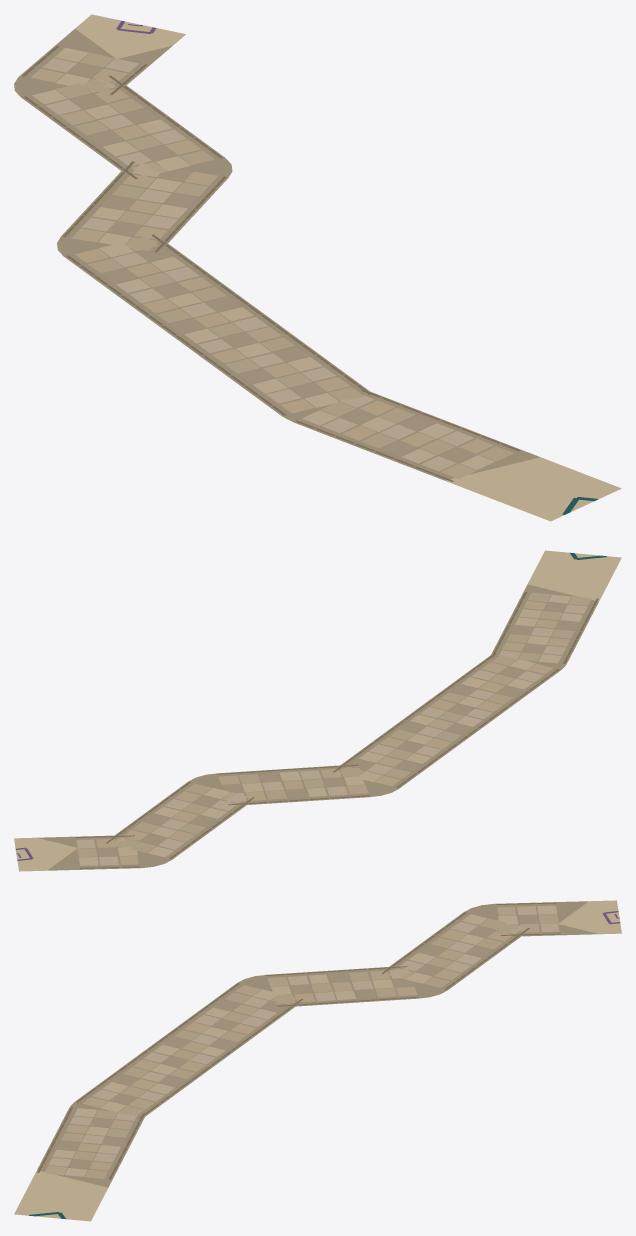
File: route-atk-temple_s-walk.glb
3 renders of one model, top to bottom at view 1: azimuth 30°, elevation 25°; view 2: azimuth 150°, elevation 25°; view 3: azimuth 330°, elevation 25°, orthographic. The views are drawn at different scales.
Parts seen in each view (by area): view 1: Surveyed floor · route-atk-temple_s-walk, Spice Gate to South Temple / #C2AE8D, Spice Gate to South Temple / #C9B798, Spice Gate to South Temple / #BDAD8E, Spice Gate to South Temple / #C7B399, Spice Gate to South Temple / #AE9D84, Spice Gate to South Temple / #85775D; view 2: Surveyed floor · route-atk-temple_s-walk, Spice Gate to South Temple / #C2AE8D, Spice Gate to South Temple / #C9B798, Spice Gate to South Temple / #BDAD8E, Spice Gate to South Temple / #C7B399, Spice Gate to South Temple / #AE9D84, Spice Gate to South Temple / #85775D; view 3: Surveyed floor · route-atk-temple_s-walk, Spice Gate to South Temple / #C2AE8D, Spice Gate to South Temple / #C9B798, Spice Gate to South Temple / #BDAD8E, Spice Gate to South Temple / #C7B399, Spice Gate to South Temple / #AE9D84, Spice Gate to South Temple / #85775D.
Part boxes in pixels (x1,y1,x2,y2): Surveyed floor · route-atk-temple_s-walk: (14, 14, 621, 521); Spice Gate to South Temple / #C2AE8D: (31, 68, 493, 478); Spice Gate to South Temple / #C9B798: (32, 47, 494, 469); Spice Gate to South Temple / #BDAD8E: (56, 53, 513, 461); Spice Gate to South Temple / #C7B399: (42, 58, 474, 471); Spice Gate to South Temple / #AE9D84: (68, 63, 475, 462); Spice Gate to South Temple / #85775D: (22, 46, 520, 481); Surveyed floor · route-atk-temple_s-walk: (14, 550, 621, 871); Spice Gate to South Temple / #C2AE8D: (96, 596, 591, 864); Spice Gate to South Temple / #C9B798: (79, 594, 582, 865); Spice Gate to South Temple / #BDAD8E: (77, 592, 574, 856); Spice Gate to South Temple / #C7B399: (76, 604, 587, 865); Spice Gate to South Temple / #AE9D84: (98, 602, 578, 856); Spice Gate to South Temple / #85775D: (75, 592, 598, 868); Surveyed floor · route-atk-temple_s-walk: (14, 900, 621, 1221); Spice Gate to South Temple / #C2AE8D: (44, 906, 539, 1175); Spice Gate to South Temple / #C9B798: (53, 905, 557, 1176); Spice Gate to South Temple / #BDAD8E: (61, 914, 558, 1178); Spice Gate to South Temple / #C7B399: (48, 906, 559, 1166); Spice Gate to South Temple / #AE9D84: (57, 915, 537, 1168); Spice Gate to South Temple / #85775D: (37, 902, 560, 1179).
Bounding box in the file's own units: 24.44 × 0.026 × 83.97.
